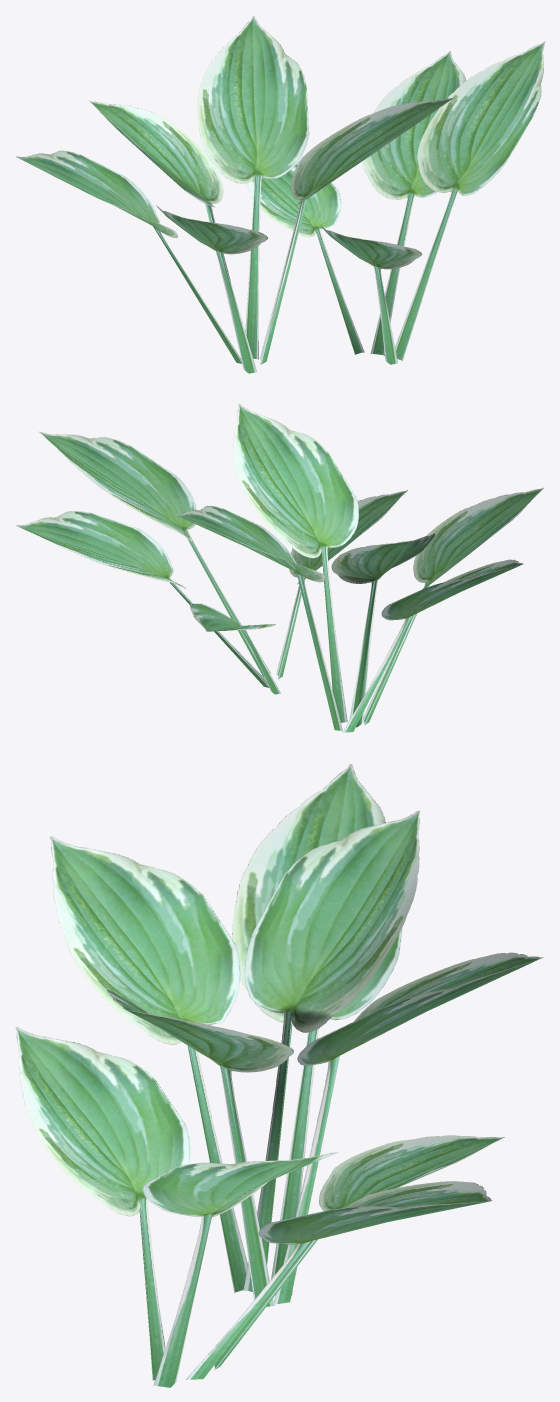
File: plant_small_wg_03R.fbx
The picture shows the model from 3 angles, top to bottom: view 1: azimuth 30°, elevation 25°; view 2: azimuth 150°, elevation 25°; view 3: azimuth 270°, elevation 25°; orthographic projection. The views are drawn at different scales.
Visible parts, largest first — view 1: plant_small_wg_03R; view 2: plant_small_wg_03R; view 3: plant_small_wg_03R.
Boxes of the visible parts, bbox=[...] form: plant_small_wg_03R: bbox=[16, 16, 545, 373]; plant_small_wg_03R: bbox=[16, 404, 543, 732]; plant_small_wg_03R: bbox=[15, 764, 543, 1387].
Bounding box in the file's own units: 84.64 × 40.91 × 48.
